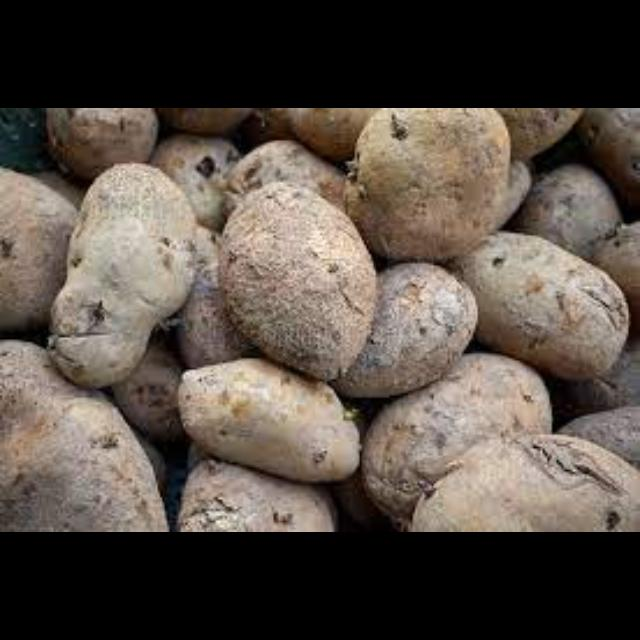Diseased-fungal potato: (44, 168, 198, 396), (211, 178, 375, 390), (3, 334, 177, 532), (449, 216, 633, 387), (162, 358, 372, 498), (380, 434, 640, 532), (350, 112, 510, 260)
